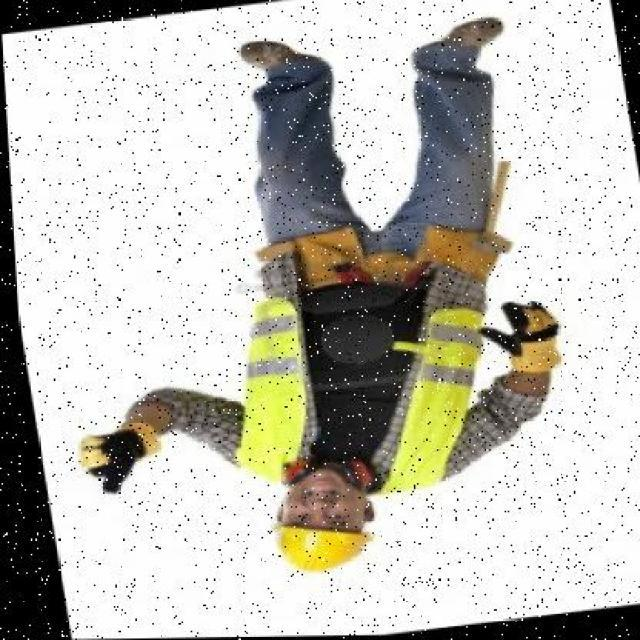helmet: (240, 514, 366, 580)
vest: (192, 268, 496, 512)
